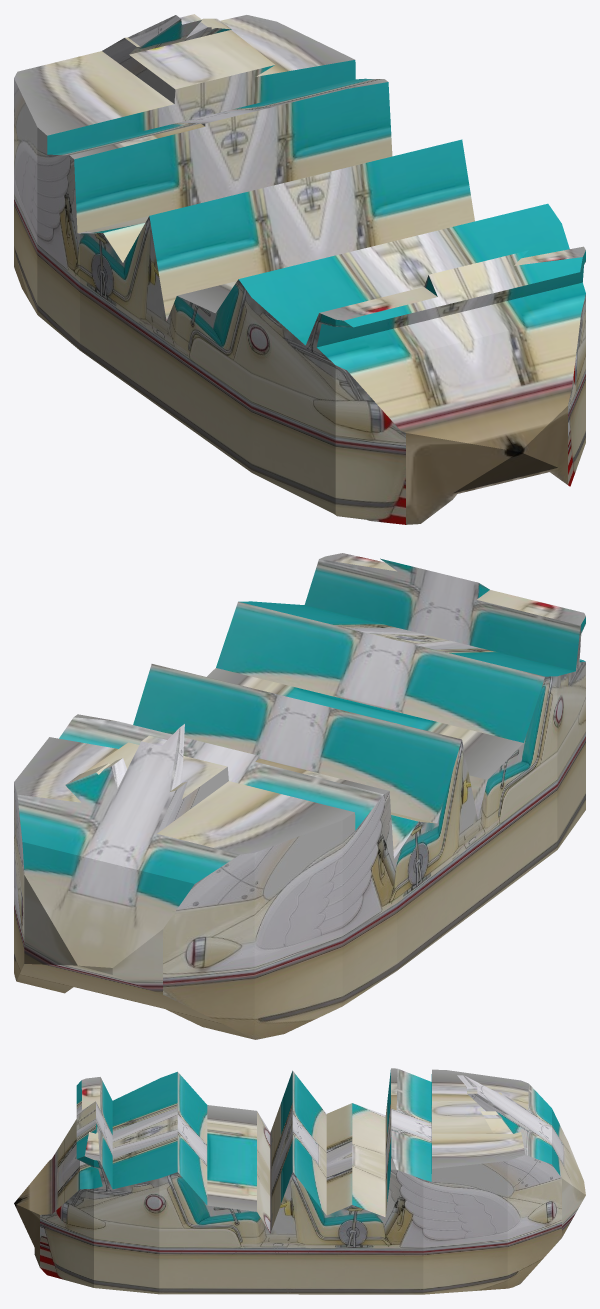
Rendered from pedal_boat.glb.
3 renders of one model, top to bottom at view 1: azimuth 30°, elevation 25°; view 2: azimuth 150°, elevation 25°; view 3: azimuth 270°, elevation 25°, orthographic. The views are drawn at different scales.
Visible parts, largest first — view 1: pedal_boat; view 2: pedal_boat; view 3: pedal_boat.
Boxes of the visible parts, x1=… form: pedal_boat: x1=14, y1=14, x2=585, y2=524; pedal_boat: x1=14, y1=553, x2=585, y2=1039; pedal_boat: x1=14, y1=1068, x2=585, y2=1294.
Bounding box in the file's own units: 1.06 × 0.85 × 2.5.
Materials: 2 (1 with a texture image).
